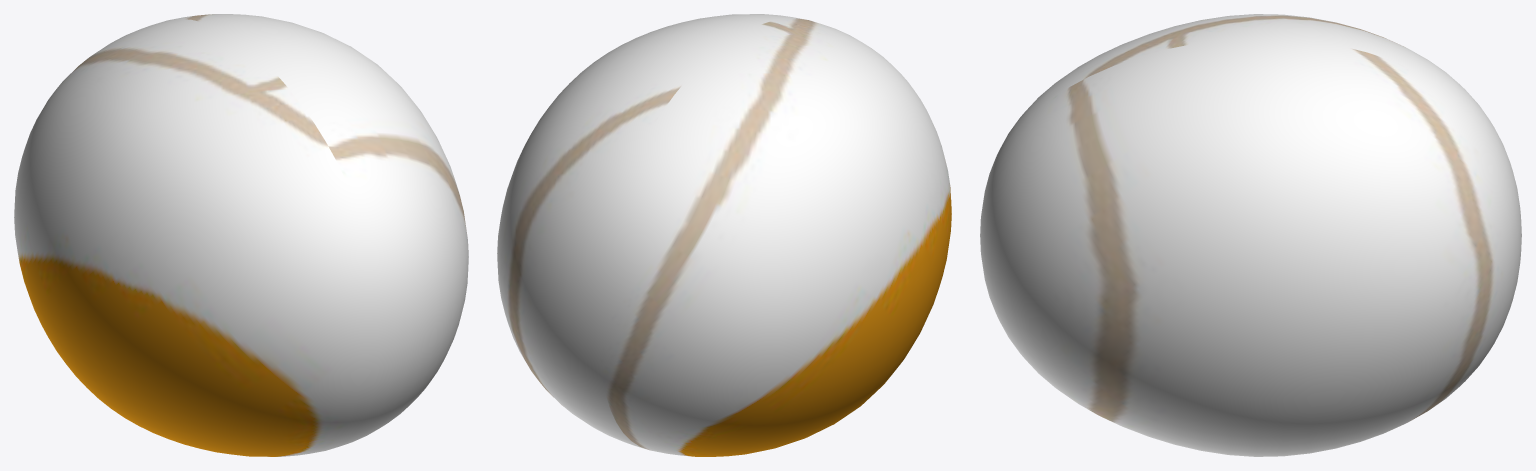
The model's file is egg2.obj.
3 renders of one model, left to right at view 1: azimuth 30°, elevation 25°; view 2: azimuth 150°, elevation 25°; view 3: azimuth 270°, elevation 25°, orthographic. The views are drawn at different scales.
Visible parts, largest first — view 1: default001; view 2: default001; view 3: default001.
Boxes of the visible parts, x1,y1,x2,y2 form: default001: (14,14,468,456); default001: (497,14,951,456); default001: (980,14,1521,456).
Size of the model in its own units: 1.25 by 1.25 by 1.55.
